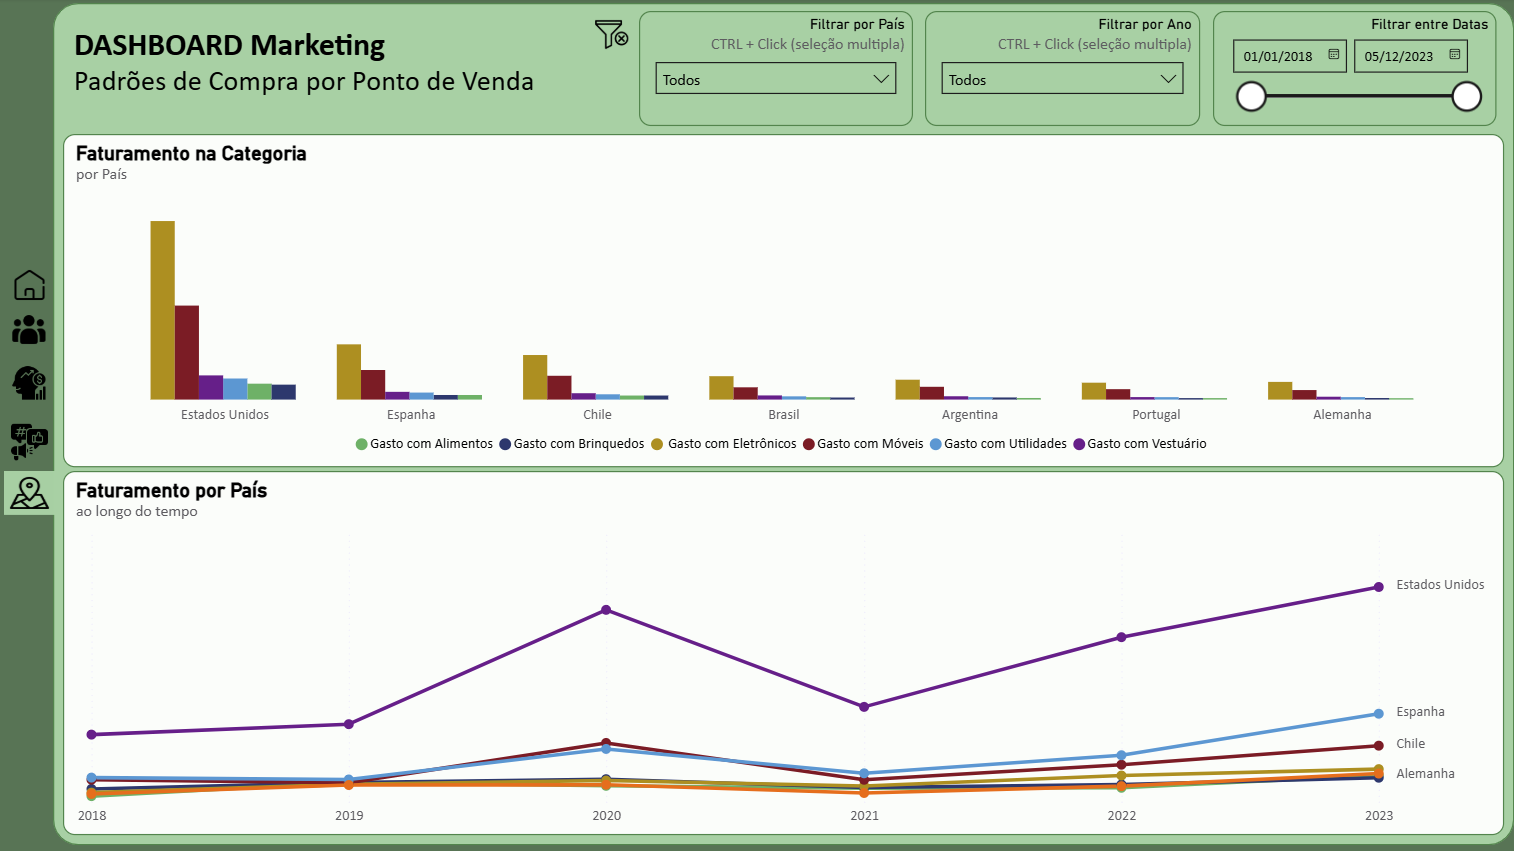

The page's visual inventory and layout, read from the dashboard file:
{"tool":"powerbi","page":{"name":"Visão Pontos de Venda","canvas":[1280,720],"ordinal":4},"visuals":[{"type":"group","id":"g1","title":"Grupo 1","box":[48.2,4.5,1231.8,710],"z":0},{"type":"shape","box":[48.2,4.5,1231.8,710],"z":0,"group":"g1"},{"type":"textbox","box":[60.8,17.6,472.7,73.6],"z":1000,"group":"g1"},{"type":"clusteredColumnChart","title":"Faturamento na Categoria","fields":{"Category":["Dados_Marketing.Pais"],"Y":["Sum(Dados_Marketing.Gasto com Alimentos)","Sum(Dados_Marketing.Gasto com Brinquedos)","Sum(Dados_Marketing.Gasto com Eletronicos)","Sum(Dados_Marketing.Gasto com Moveis)","Sum(Dados_Marketing.Gasto com Utilidades)","Sum(Dados_Marketing.Gasto com Vestuario)"]},"box":[56.3,114.5,1215.5,280.9],"z":1000},{"type":"lineChart","title":"Faturamento por País","fields":{"Y":["Dados_Marketing.Total_Gasto"],"Category":["Dados_Marketing.Data Cadastro.Variation.Hierarquia de datas.Ano"],"Series":["Dados_Marketing.Pais"]},"box":[56.3,399.1,1215.5,307.3],"z":2000},{"type":"group","id":"g2","title":"Grupo 5","box":[7,223.6,42.7,212.7],"z":3000},{"type":"image","box":[7,398.9,42.7,37.3],"z":3000,"group":"g3"},{"type":"slicer","title":"Filtrar por Ano","fields":{"Values":["Dados_Marketing.Data Cadastro.Variation.Hierarquia de datas.Ano"]},"box":[783.7,10.9,231.8,97.3],"z":4000,"group":"g1"},{"type":"image","box":[498.9,11.9,39.8,37.8],"z":4000},{"type":"image","box":[7,260.7,42.7,38.2],"z":4000,"group":"g3"},{"type":"slicer","title":"Filtrar por País","fields":{"Values":["Dados_Marketing.Pais"]},"box":[541.8,10.9,230.9,97.3],"z":5000,"group":"g1"},{"type":"group","id":"g3","title":"Grupo 2","box":[7,260.7,42.7,175.5],"z":5000,"group":"g2"},{"type":"image","box":[7,303.4,42.7,41.8],"z":5000,"group":"g3"},{"type":"slicer","title":"Filtrar entre Datas","fields":{"Values":["Dados_Marketing.Data Cadastro"]},"box":[1026.4,10.9,239.1,97.3],"z":6000,"group":"g1"},{"type":"image","box":[7,223.6,42.6,37.2],"z":6000,"group":"g2"},{"type":"image","box":[7,349.8,42.7,48.2],"z":6000,"group":"g3"}]}

Visuals, with their boxes on the page's 1280x720 design canvas (x1, y1, x2, y2). These are canvas units, not pixel positions in the 1514x851 screenshot, which may show the page scaled, cropped or inside an application window:
"Grupo 1" group: x1=48, y1=4, x2=1280, y2=714
shape: x1=48, y1=4, x2=1280, y2=714
textbox: x1=61, y1=18, x2=534, y2=91
"Faturamento na Categoria" clusteredColumnChart: x1=56, y1=114, x2=1272, y2=395
"Faturamento por País" lineChart: x1=56, y1=399, x2=1272, y2=706
"Grupo 5" group: x1=7, y1=224, x2=50, y2=436
image: x1=7, y1=399, x2=50, y2=436
"Filtrar por Ano" slicer: x1=784, y1=11, x2=1016, y2=108
image: x1=499, y1=12, x2=539, y2=50
image: x1=7, y1=261, x2=50, y2=299
"Filtrar por País" slicer: x1=542, y1=11, x2=773, y2=108
"Grupo 2" group: x1=7, y1=261, x2=50, y2=436
image: x1=7, y1=303, x2=50, y2=345
"Filtrar entre Datas" slicer: x1=1026, y1=11, x2=1266, y2=108
image: x1=7, y1=224, x2=50, y2=261
image: x1=7, y1=350, x2=50, y2=398
